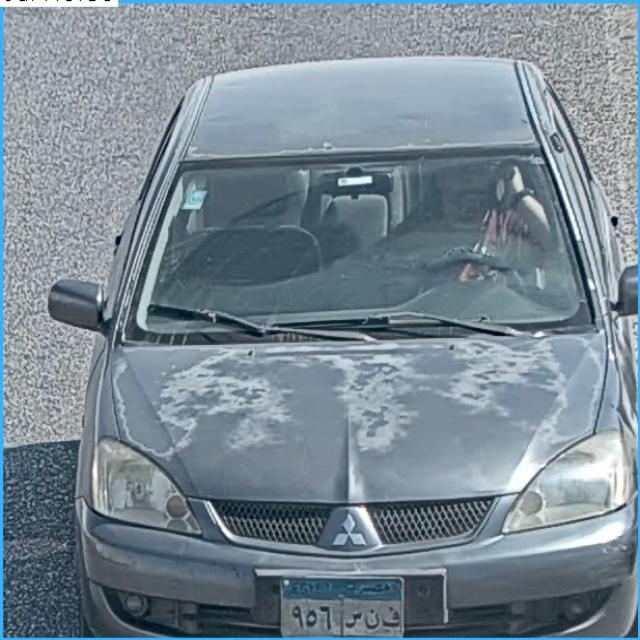windshield: (128, 150, 570, 327)
